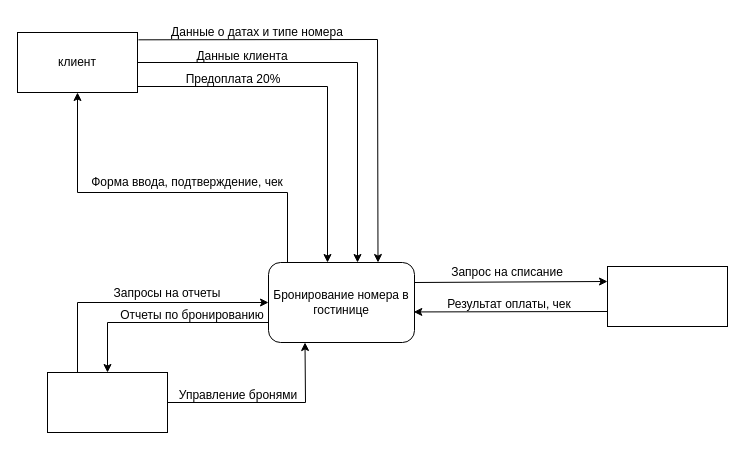
Image size: 745x450. Some labels were removed from this diagram. The shapes that lost their labels are listed below. From the top down, each one's box as (x1, y1, x2, y2) in pixels, then its label:
(606, 266, 728, 326): платежный шлюз
(46, 372, 168, 432): персонал
